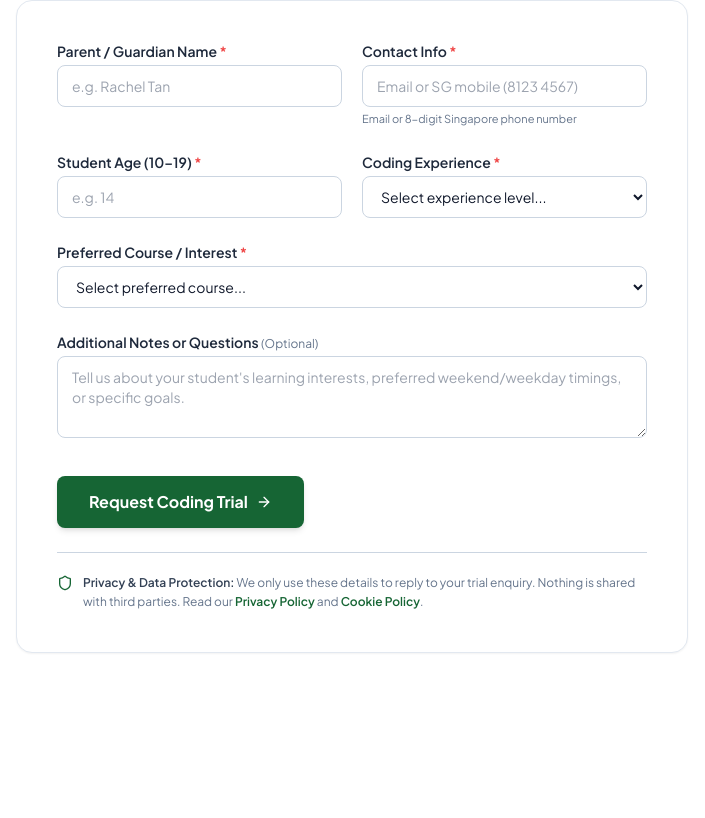
Scenario: TrialEnquiryForm Component & Accessibility Tests › displays error banner and preserves inputs when API returns server error
Type "David Wong" into the field labelled "Parent / Guardian Name *" at (200,86), box [57,65,342,107]
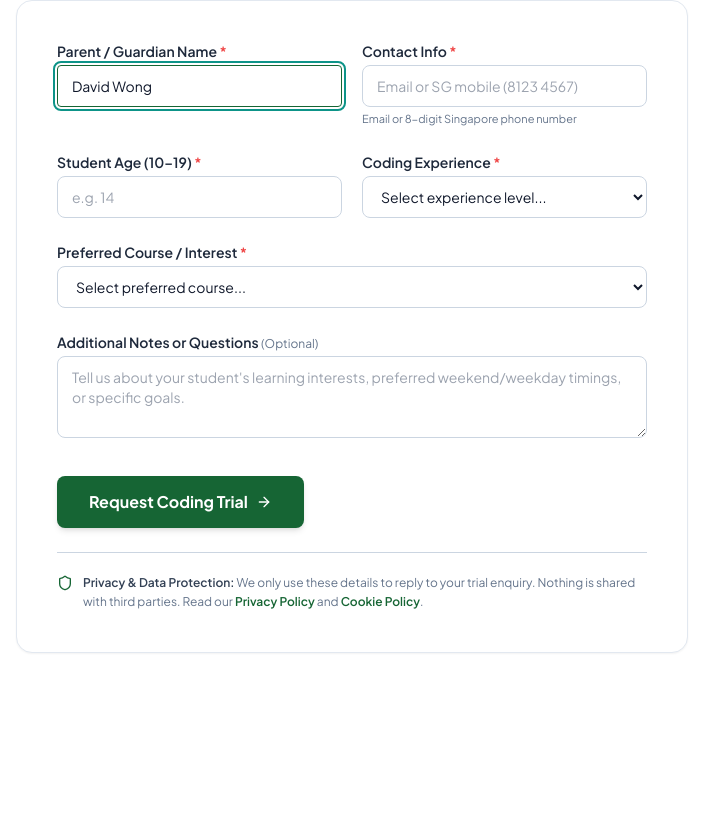
Type "98765432" into the field labelled "Contact Info *" at (504,86), box [362,65,647,107]
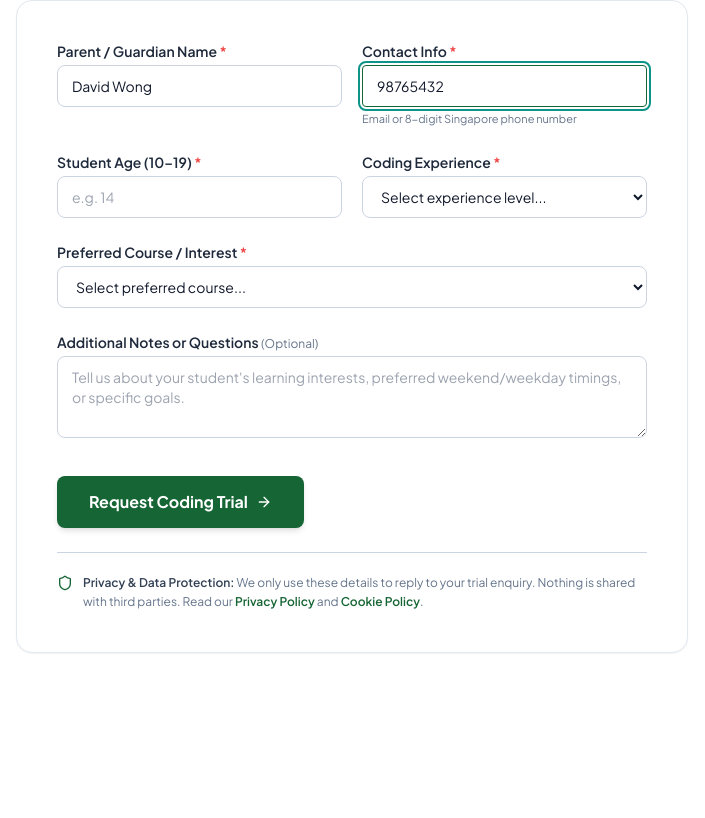
Type "16" into the number field labelled "Student Age (10–19) *" at (200,196), box [57,176,342,218]
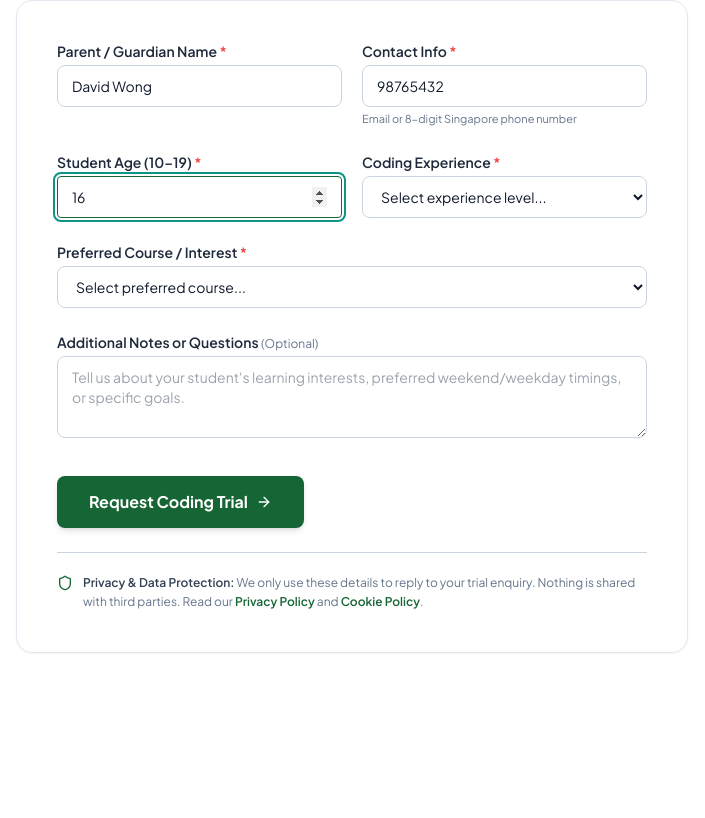
Select "Block Coding Only (Scratch / Micro:bit)" in the dropdown labelled "Coding Experience *" at (504,196), box [362,176,647,218]
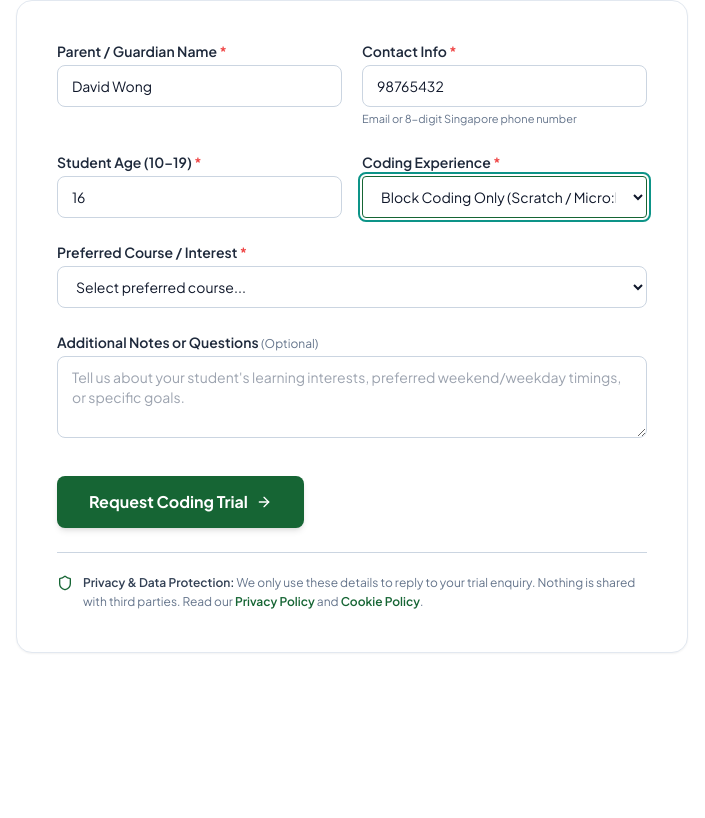
Select "Beginner Python" in the dropdown labelled "Preferred Course / Interest *" at (352,286), box [57,266,647,308]
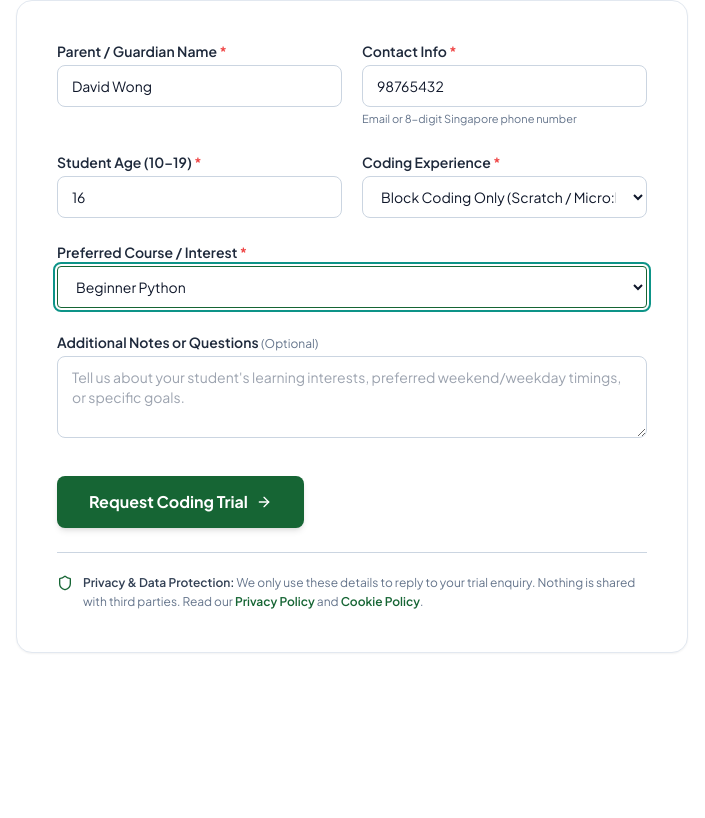
Click the button "Request Coding Trial" at (180,502), box [57,476,304,528]
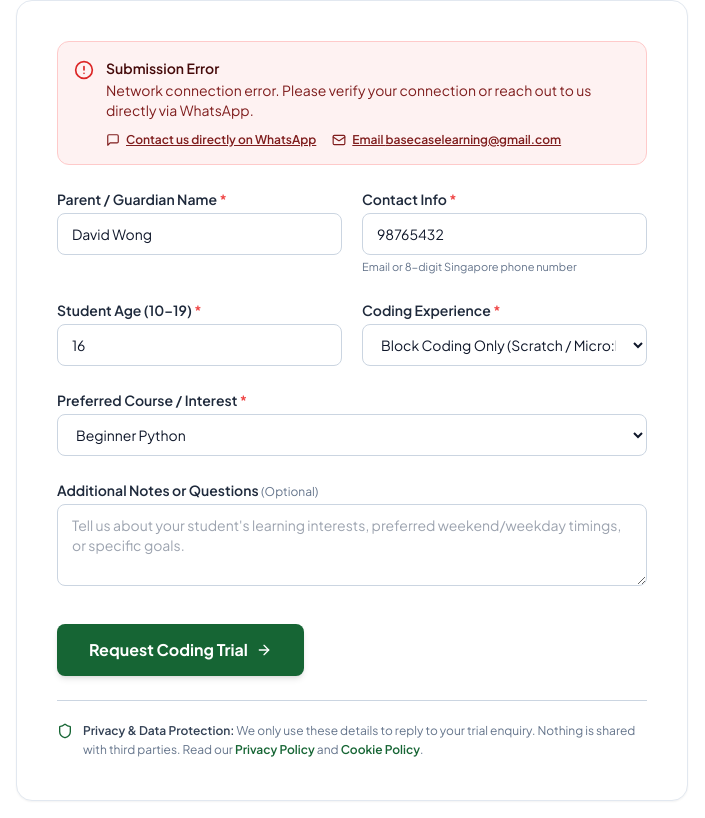
Expected: the text "Submission Error" is shown, [106,59,219,77]
